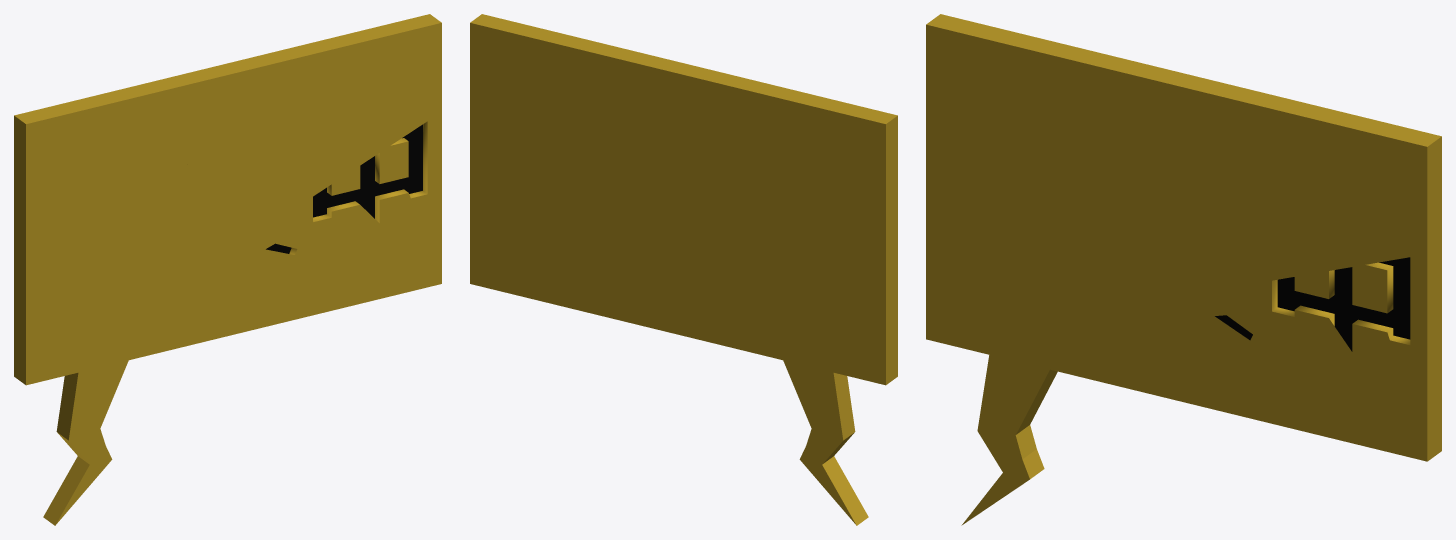
The model's file is kanban.fbx.
The picture shows the model from 3 angles, left to right: view 1: azimuth 30°, elevation 25°; view 2: azimuth 150°, elevation 25°; view 3: azimuth 330°, elevation 25°; orthographic projection. The views are drawn at different scales.
Parts seen in each view (by area): view 1: kanban; view 2: kanban; view 3: kanban.
Part boxes in pixels (<box>): kanban: <box>14,14,441,525</box>; kanban: <box>470,14,897,525</box>; kanban: <box>926,14,1441,525</box>.
Bounding box in the file's own units: 2 × 1.88 × 0.1.
Materials: 1 (1 with a texture image).
